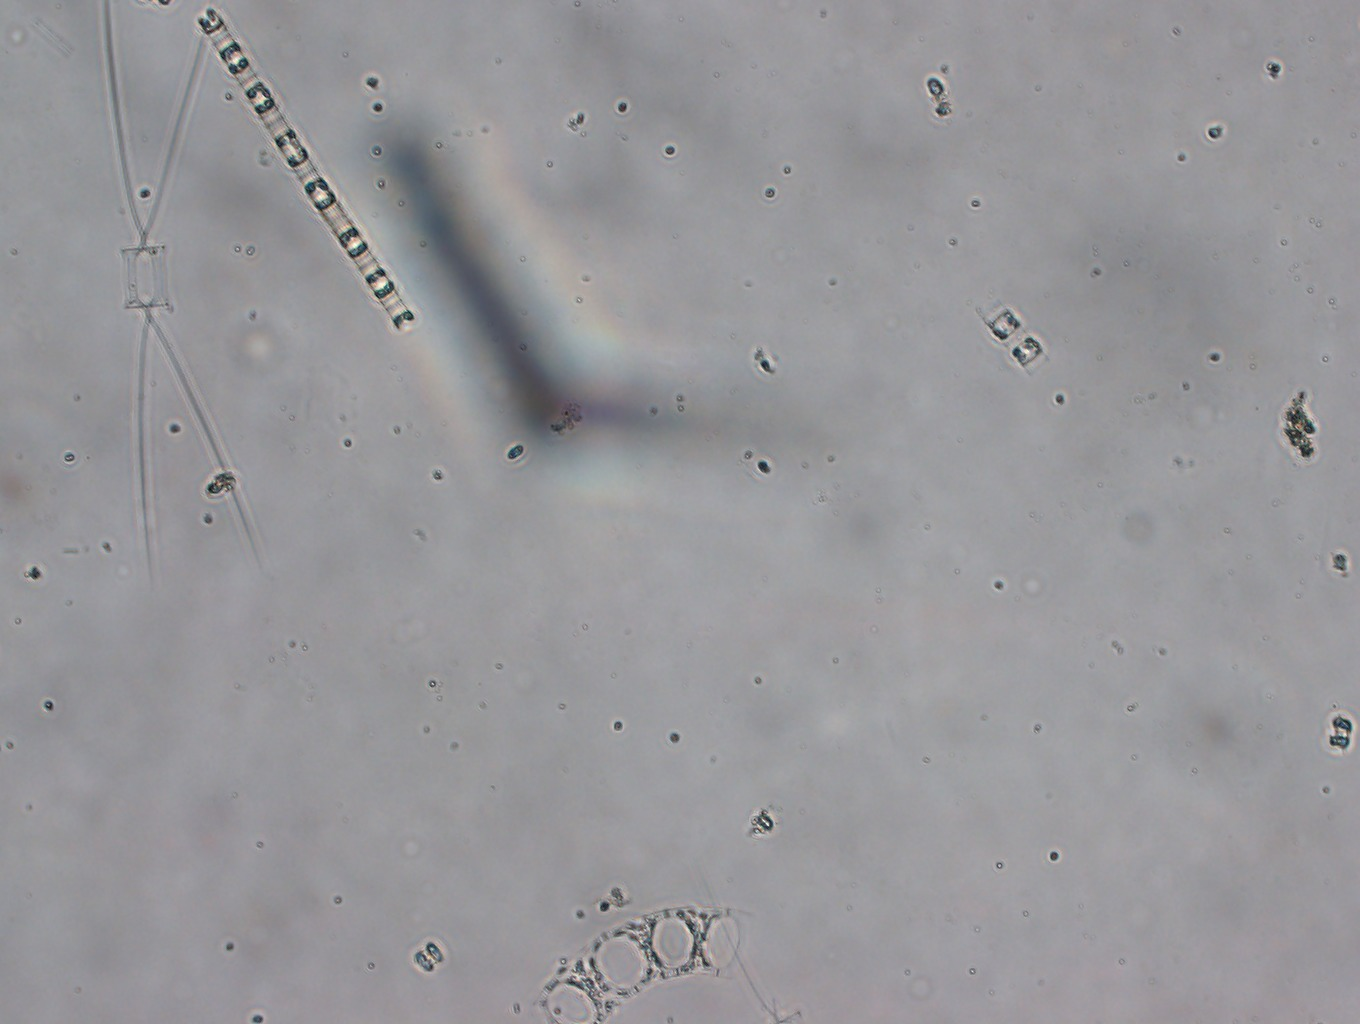chaetoceros: (104, 1, 266, 578)
eucampia: (533, 906, 757, 1024)
skeletonema: (199, 11, 416, 332), (974, 289, 1049, 376)
